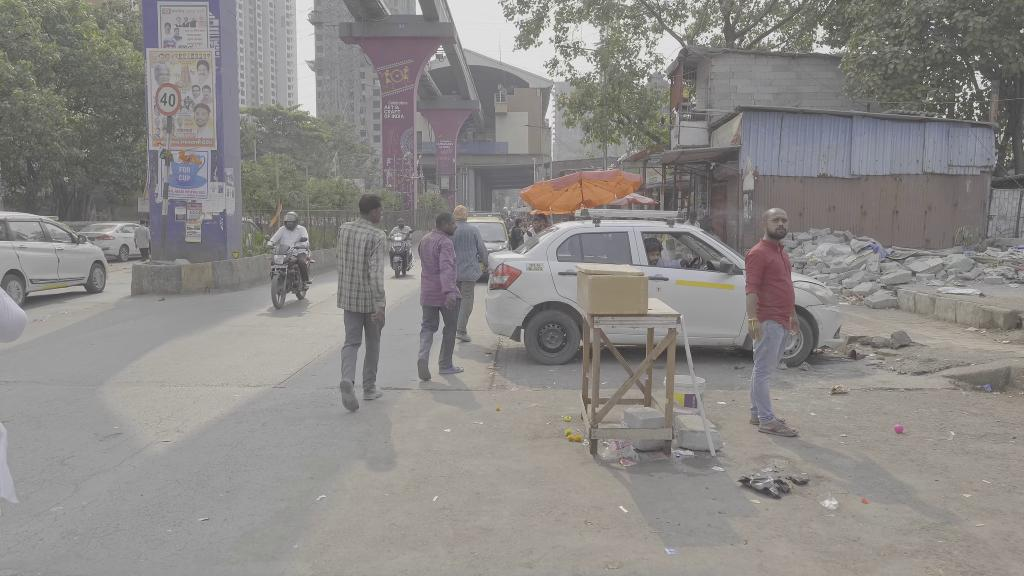garbage: (741, 469, 794, 504), (602, 441, 642, 468), (816, 491, 844, 515), (673, 448, 696, 460), (710, 463, 728, 474)
